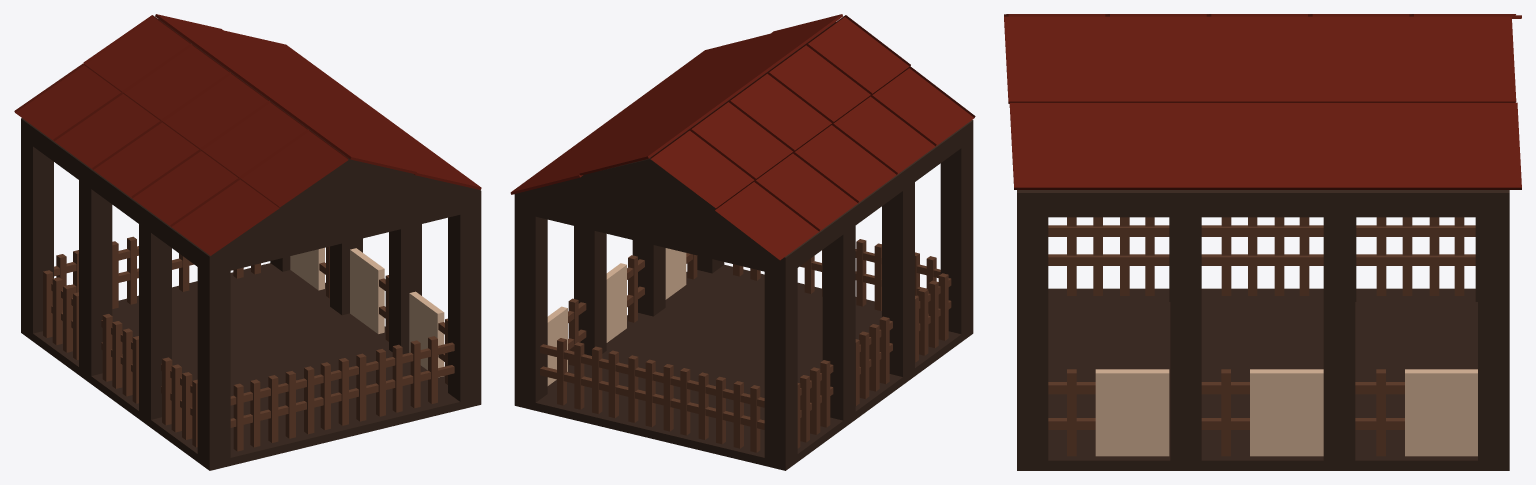
File: stable.fbx
3 views of the same model, side by side, from view 1: azimuth 30°, elevation 25°; view 2: azimuth 150°, elevation 25°; view 3: azimuth 270°, elevation 25° (orthographic). The views are drawn at different scales.
Visible parts, largest first — view 1: Stable; view 2: Stable; view 3: Stable.
Part boxes in pixels (x1,y1,x2,y2): Stable: (14,14,481,470); Stable: (510,14,975,470); Stable: (1004,14,1521,470).
Bounding box in the file's own units: 1204 × 1199 × 1526.
